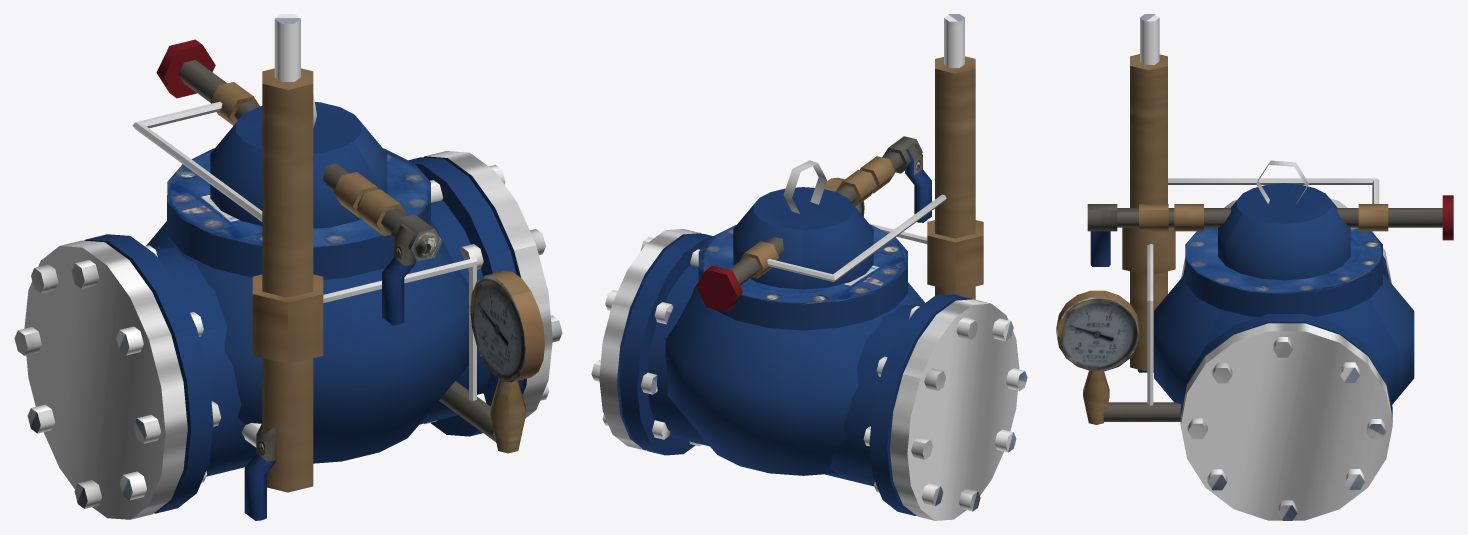
The model's file is 泄压阀.obj.
3 views of the same model, side by side, from view 1: azimuth 30°, elevation 25°; view 2: azimuth 150°, elevation 25°; view 3: azimuth 270°, elevation 25° (orthographic). The views are drawn at different scales.
Parts seen in each view (by area): view 1: Cylinder063, Cylinder312, Cylinder321, Cylinder086, Cylinder313, Cylinder311, Cylinder064, Cylinder327, Cylinder074, Cylinder075, Cylinder322, Line002 (+20 smaller); view 2: Cylinder312, Cylinder063, Cylinder313, Cylinder086, Cylinder311, Cylinder321, Cylinder075, Cylinder064, Cylinder074, Cylinder322, Line002, Cylinder315 (+10 smaller); view 3: Cylinder074, Cylinder312, Cylinder313, Cylinder086, Cylinder321, Cylinder327, Cylinder314, Cylinder322, Cylinder075, Line002, Cylinder331, Cylinder328 (+8 smaller).
Boxes of the visible parts, x1=… form: Cylinder063: x1=24, y1=240, x2=187, y2=519; Cylinder312: x1=146, y1=221, x2=468, y2=463; Cylinder321: x1=262, y1=68, x2=313, y2=492; Cylinder086: x1=167, y1=148, x2=430, y2=279; Cylinder313: x1=210, y1=102, x2=387, y2=228; Cylinder311: x1=153, y1=200, x2=490, y2=476; Cylinder064: x1=84, y1=234, x2=213, y2=513; Cylinder327: x1=470, y1=271, x2=544, y2=382; Cylinder074: x1=424, y1=151, x2=552, y2=418; Cylinder075: x1=408, y1=157, x2=523, y2=436; Cylinder322: x1=252, y1=274, x2=323, y2=364; Line002: x1=132, y1=101, x2=262, y2=221; Cylinder312: x1=665, y1=282, x2=924, y2=475; Cylinder063: x1=890, y1=299, x2=1019, y2=520; Cylinder313: x1=733, y1=187, x2=873, y2=289; Cylinder086: x1=698, y1=224, x2=907, y2=330; Cylinder311: x1=648, y1=265, x2=920, y2=486; Cylinder321: x1=935, y1=56, x2=975, y2=299; Cylinder075: x1=619, y1=234, x2=712, y2=455; Cylinder064: x1=869, y1=294, x2=971, y2=515; Cylinder074: x1=599, y1=229, x2=701, y2=450; Cylinder322: x1=927, y1=220, x2=983, y2=291; Line002: x1=767, y1=194, x2=946, y2=281; Cylinder315: x1=696, y1=265, x2=742, y2=312; Cylinder074: x1=1180, y1=323, x2=1392, y2=520; Cylinder312: x1=1154, y1=274, x2=1414, y2=404; Cylinder313: x1=1218, y1=183, x2=1350, y2=280; Cylinder086: x1=1185, y1=227, x2=1382, y2=316; Cylinder321: x1=1130, y1=54, x2=1167, y2=371; Cylinder327: x1=1056, y1=290, x2=1139, y2=371; Cylinder314: x1=1117, y1=208, x2=1442, y2=227; Cylinder322: x1=1122, y1=227, x2=1175, y2=275; Cylinder075: x1=1180, y1=314, x2=1392, y2=416; Line002: x1=1168, y1=178, x2=1379, y2=203; Cylinder331: x1=1103, y1=402, x2=1181, y2=421; Cylinder328: x1=1083, y1=370, x2=1109, y2=424.
Size of the model in its own units: 52.2 by 63.71 by 57.54.
